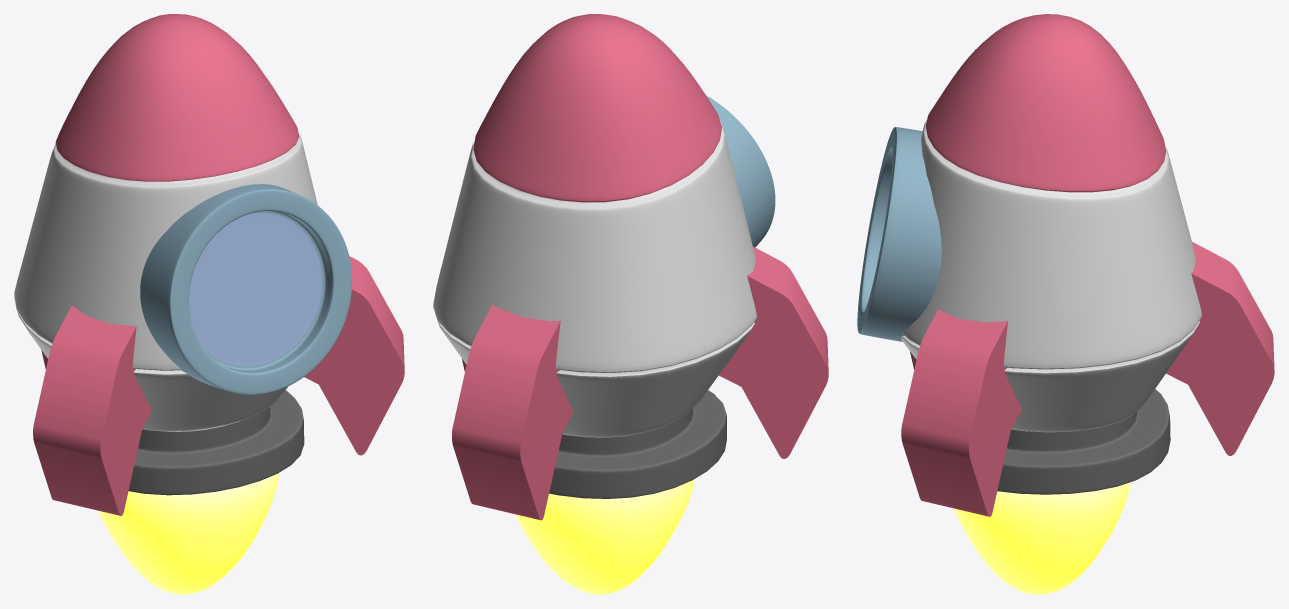
Rendered from Rocket.fbx.
3 views of the same model, side by side, from view 1: azimuth 30°, elevation 25°; view 2: azimuth 150°, elevation 25°; view 3: azimuth 270°, elevation 25° (orthographic).
Visible parts, largest first — view 1: Cube, Cylinder, Cube.003, Cube.001; view 2: Cube, Cube.002, Cube.003, Cylinder; view 3: Cube, Cube.001, Cylinder, Cube.002.
Boxes of the visible parts, bbox=[...] form: Cube: bbox=[14, 14, 317, 594]; Cylinder: bbox=[140, 184, 352, 394]; Cube.003: bbox=[33, 305, 151, 515]; Cube.001: bbox=[304, 256, 404, 455]; Cube: bbox=[433, 14, 756, 594]; Cube.002: bbox=[452, 304, 573, 520]; Cube.003: bbox=[719, 246, 828, 458]; Cylinder: bbox=[706, 95, 775, 247]; Cube: bbox=[901, 14, 1201, 594]; Cube.001: bbox=[901, 309, 1021, 516]; Cylinder: bbox=[857, 127, 941, 341]; Cube.002: bbox=[1166, 242, 1274, 455].
Size of the model in its own units: 145 by 210 by 139.
